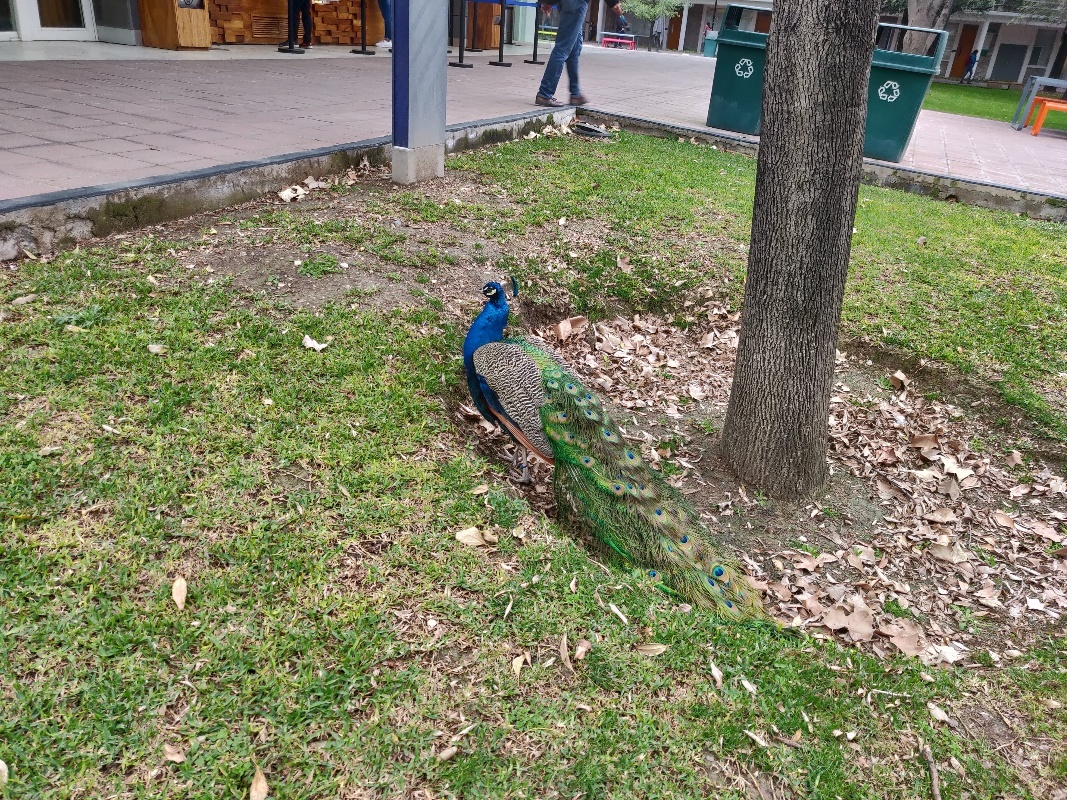pavoreal: (465, 282, 558, 451)
